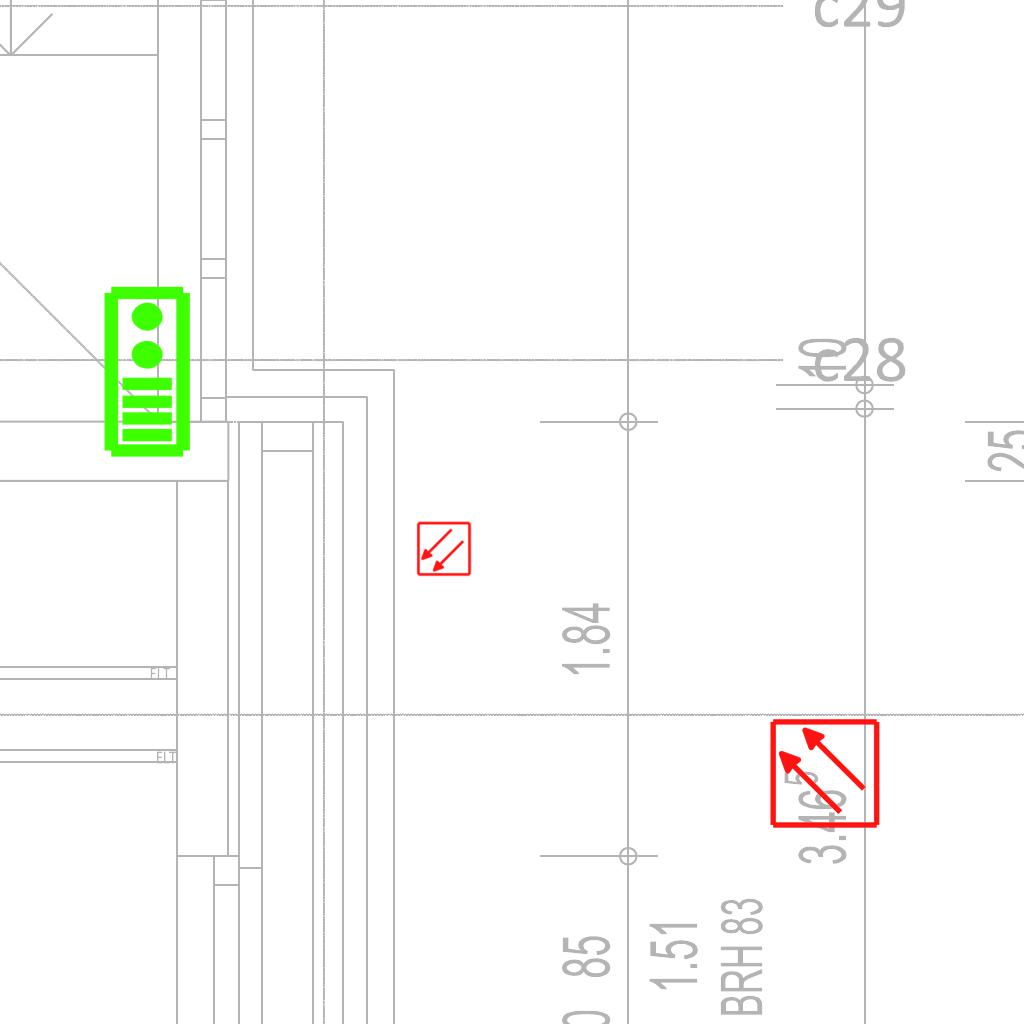Gegensprechanlage_mit_Video: (98, 283, 193, 459)
RMO_Rauchmelder_optischer: (768, 717, 881, 830), (416, 521, 472, 577)
